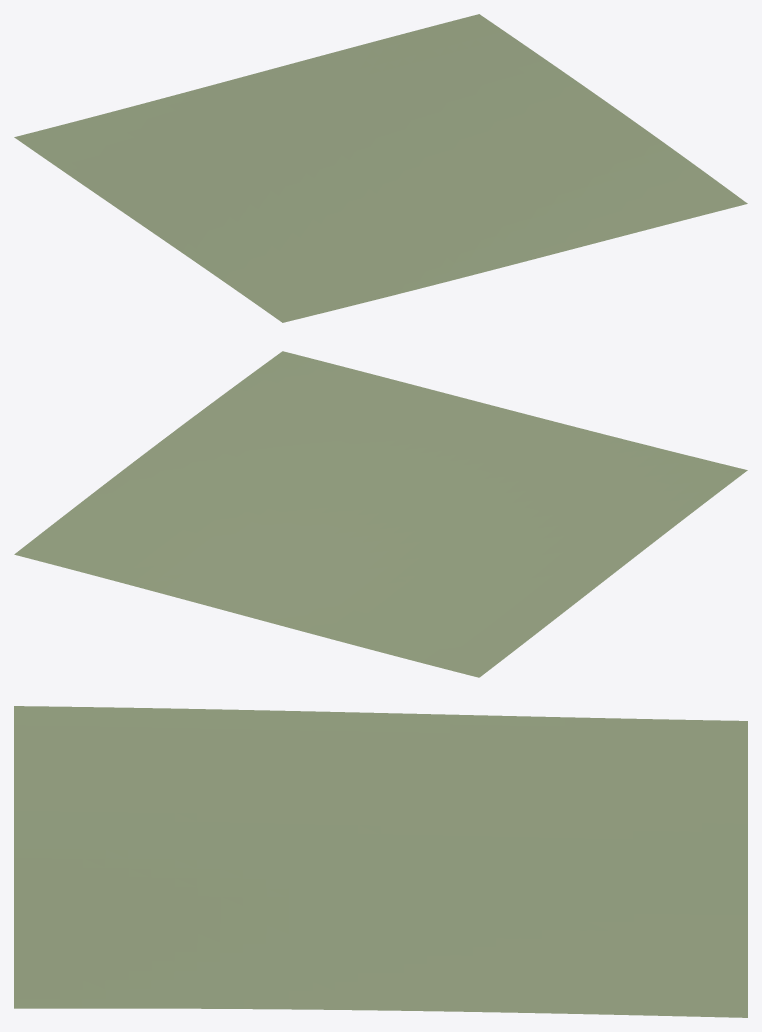
Rendered from expanse-4-14.glb.
The picture shows the model from 3 angles, top to bottom: view 1: azimuth 30°, elevation 25°; view 2: azimuth 150°, elevation 25°; view 3: azimuth 270°, elevation 25°; orthographic projection. The views are drawn at different scales.
Parts seen in each view (by area): view 1: expanse-4-14; view 2: expanse-4-14; view 3: expanse-4-14.
Part boxes in pixels (box(x1,y1,x2,y2)): expanse-4-14: box(14, 14, 747, 322); expanse-4-14: box(14, 351, 747, 677); expanse-4-14: box(14, 706, 747, 1017).
Size of the model in its own units: 256 by 8.72 by 256.
